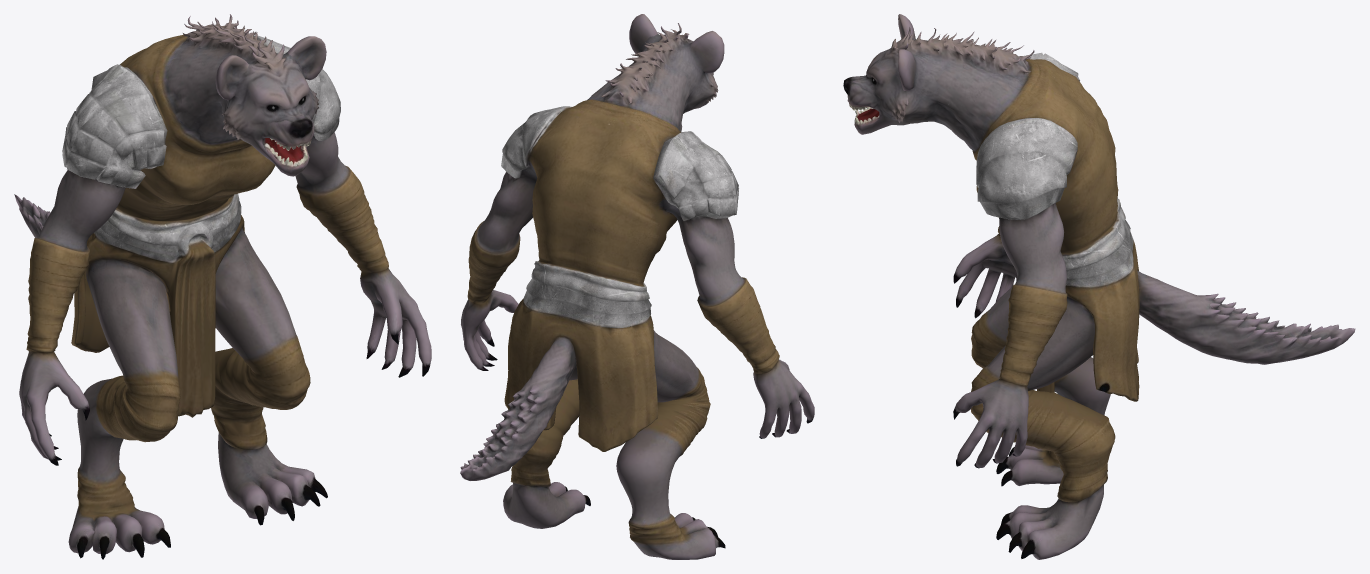
File: MZ4250 - Gnoll Updated.glb
3 views of the same model, side by side, from view 1: azimuth 30°, elevation 25°; view 2: azimuth 150°, elevation 25°; view 3: azimuth 270°, elevation 25° (orthographic). The views are drawn at different scales.
Parts seen in each view (by area): view 1: gnoll_updated_low.003; view 2: gnoll_updated_low.003; view 3: gnoll_updated_low.003.
Part boxes in pixels (<box>): gnoll_updated_low.003: <box>14,14,431,559</box>; gnoll_updated_low.003: <box>460,14,814,559</box>; gnoll_updated_low.003: <box>843,14,1355,559</box>.
Size of the model in its own units: 1.74 by 2.28 by 2.2.
1 material, 1 textured.
